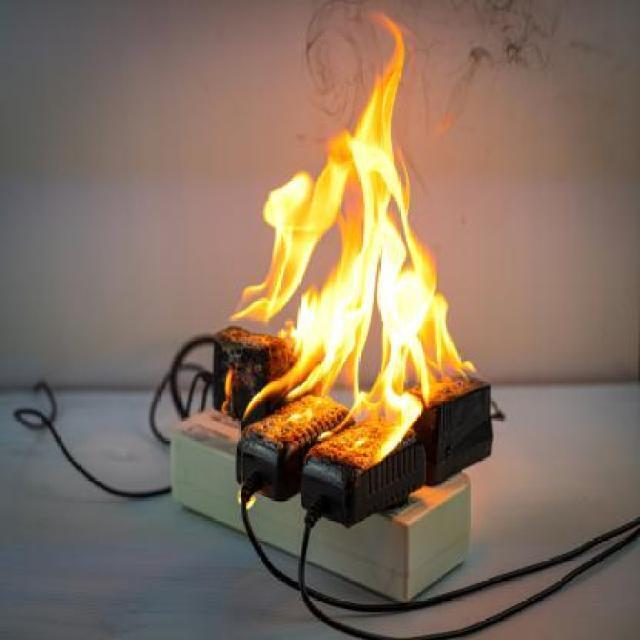Fire: (236, 25, 469, 461)
